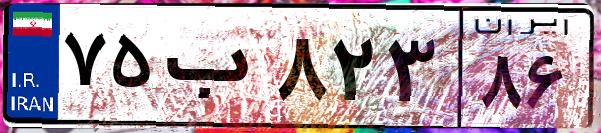2: (330, 28, 385, 110)
3: (385, 28, 445, 110)
5: (110, 28, 158, 98)
6: (525, 38, 570, 115)
7: (57, 26, 110, 100)
8: (270, 28, 330, 110), (475, 38, 525, 113)
ب: (158, 20, 270, 120)
